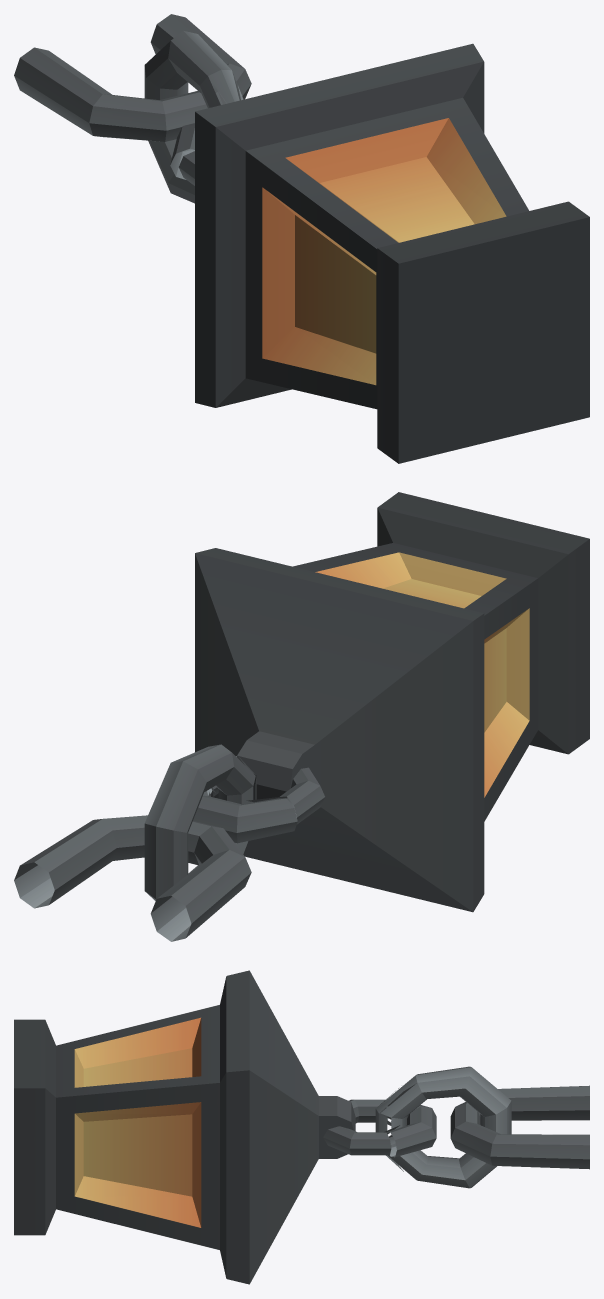
File: EVHalloween_Decor_HangingLantern_Held.fbx
3 renders of one model, top to bottom at view 1: azimuth 30°, elevation 25°; view 2: azimuth 150°, elevation 25°; view 3: azimuth 270°, elevation 25°, orthographic. The views are drawn at different scales.
Parts seen in each view (by area): view 1: EVHalloween_Decor_PumpkinOrange; view 2: EVHalloween_Decor_PumpkinOrange; view 3: EVHalloween_Decor_PumpkinOrange.
Boxes of the visible parts, x1,y1,x2,y2 form: EVHalloween_Decor_PumpkinOrange: (14,14,589,463); EVHalloween_Decor_PumpkinOrange: (14,492,589,941); EVHalloween_Decor_PumpkinOrange: (14,970,589,1284).
Size of the model in its own units: 16.36 by 16.36 by 39.85.
